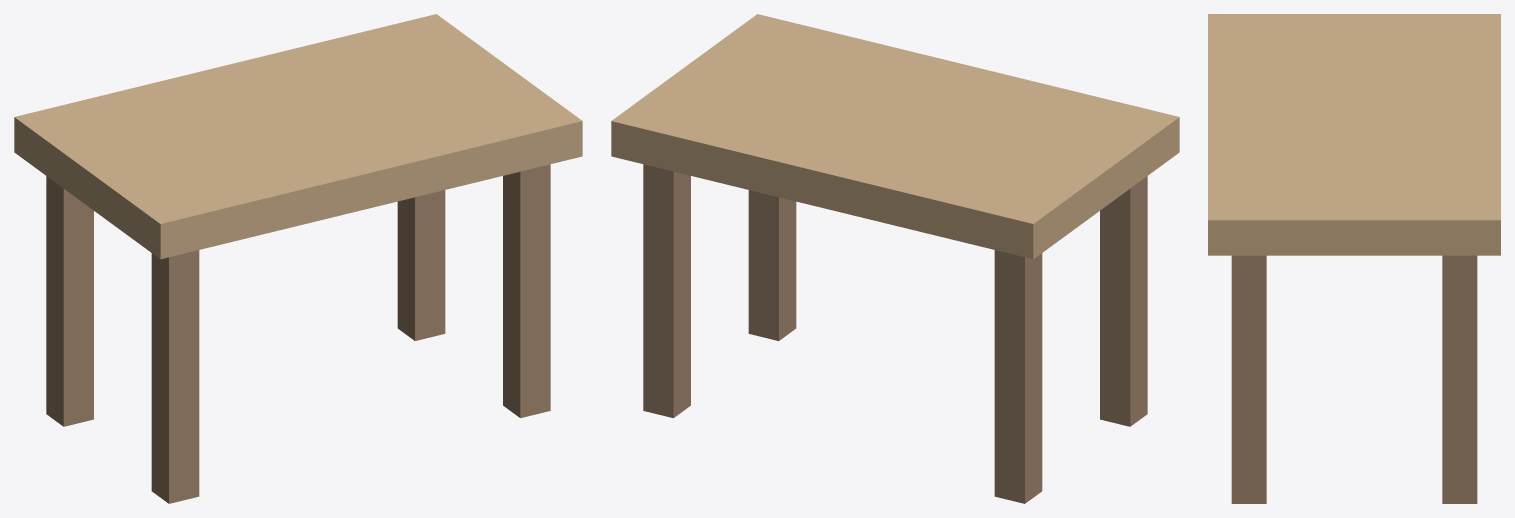
Rendered from discussion_table.gltf.
3 renders of one model, left to right at view 1: azimuth 30°, elevation 25°; view 2: azimuth 150°, elevation 25°; view 3: azimuth 270°, elevation 25°, orthographic.
Visible parts, largest first — view 1: top, leg (×4); view 2: top, leg (×4); view 3: top, leg (×2).
Part boxes in pixels (left/top/right/bottom): top: left=14, top=14, right=582, bottom=259; leg (×4): left=46, top=164, right=550, bottom=503; top: left=611, top=14, right=1179, bottom=259; leg (×4): left=643, top=164, right=1147, bottom=503; top: left=1208, top=14, right=1500, bottom=255; leg (×2): left=1231, top=255, right=1477, bottom=503.
Size of the model in its own units: 1.25 by 0.83 by 0.75.
